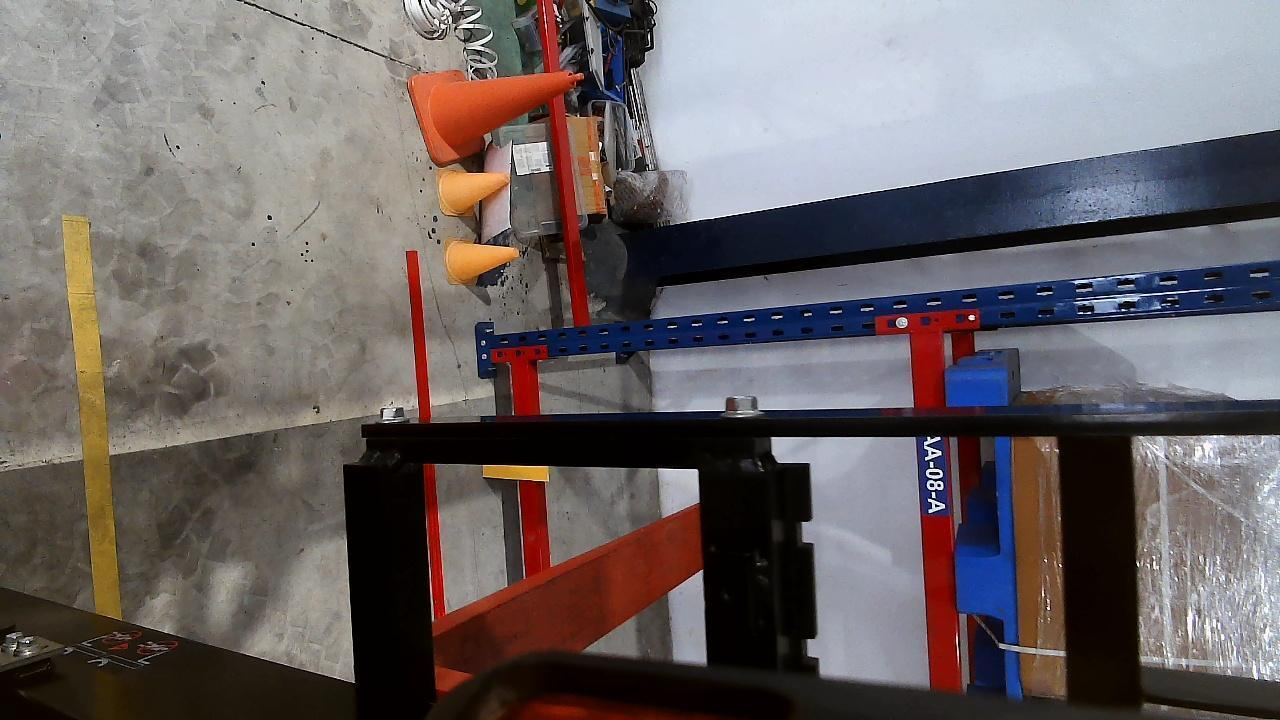red_line: (405, 250, 449, 616)
yellow_line: (59, 213, 120, 618)
